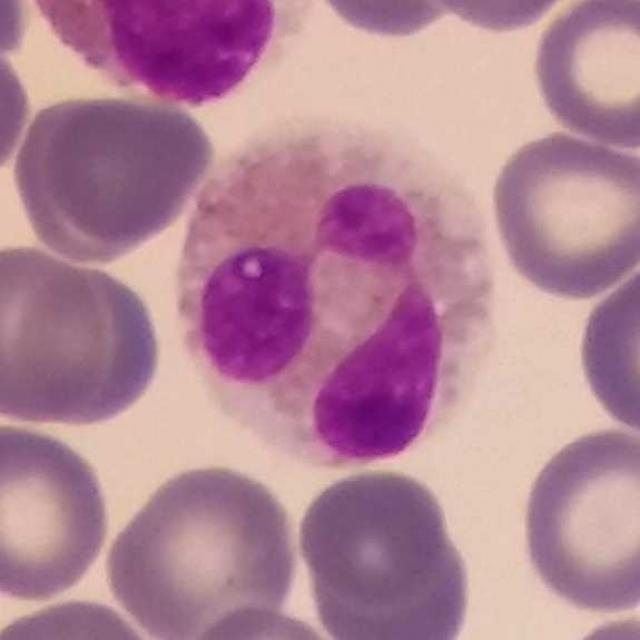eosino: (180, 132, 501, 474), (33, 0, 311, 111)
